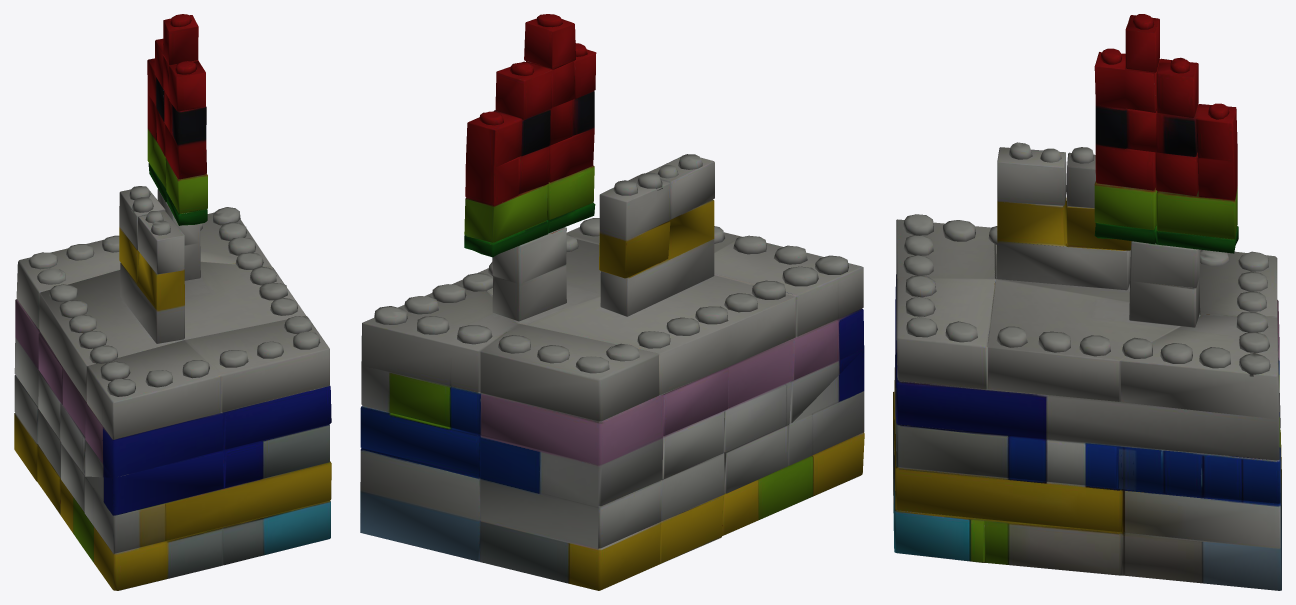
File: object_61_asset_5434be02.glb
The picture shows the model from 3 angles, left to right: view 1: azimuth 30°, elevation 25°; view 2: azimuth 150°, elevation 25°; view 3: azimuth 270°, elevation 25°; orthographic projection. The views are drawn at different scales.
Parts seen in each view (by area): view 1: tripo_node_b3b8594d-18c1-4240-8bdf-f4a63bb2212c; view 2: tripo_node_b3b8594d-18c1-4240-8bdf-f4a63bb2212c; view 3: tripo_node_b3b8594d-18c1-4240-8bdf-f4a63bb2212c.
Boxes of the visible parts, left/top/right/bottom form: tripo_node_b3b8594d-18c1-4240-8bdf-f4a63bb2212c: left=14, top=14, right=331, bottom=590; tripo_node_b3b8594d-18c1-4240-8bdf-f4a63bb2212c: left=360, top=14, right=864, bottom=590; tripo_node_b3b8594d-18c1-4240-8bdf-f4a63bb2212c: left=893, top=14, right=1281, bottom=590.
Size of the model in its own units: 0.666 by 0.998 by 0.6855.
Materials: 1 (1 with a texture image).
